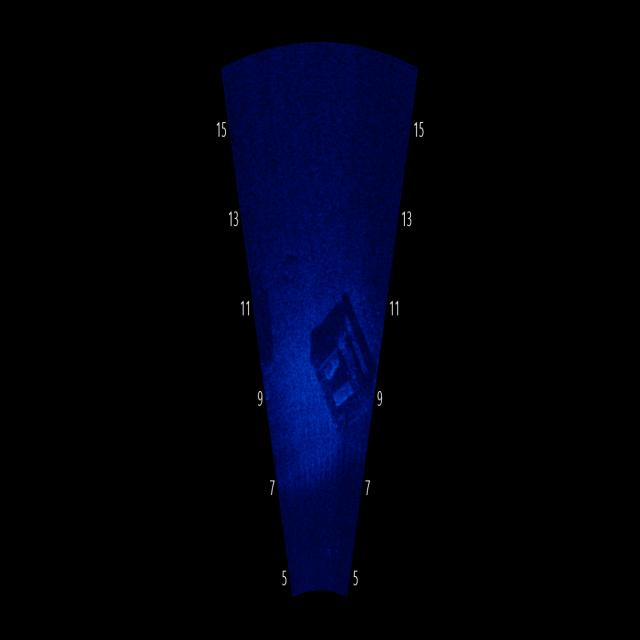square: (305, 298, 379, 426), (251, 261, 282, 386)
